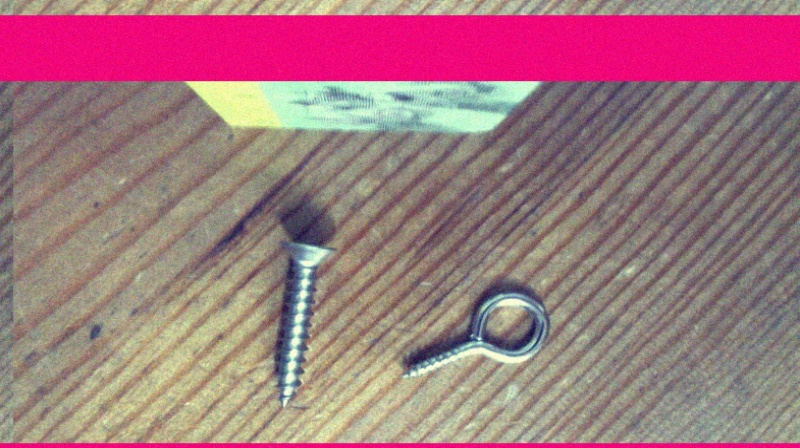O001: (390, 283, 552, 381)
S001: (262, 228, 337, 408)
